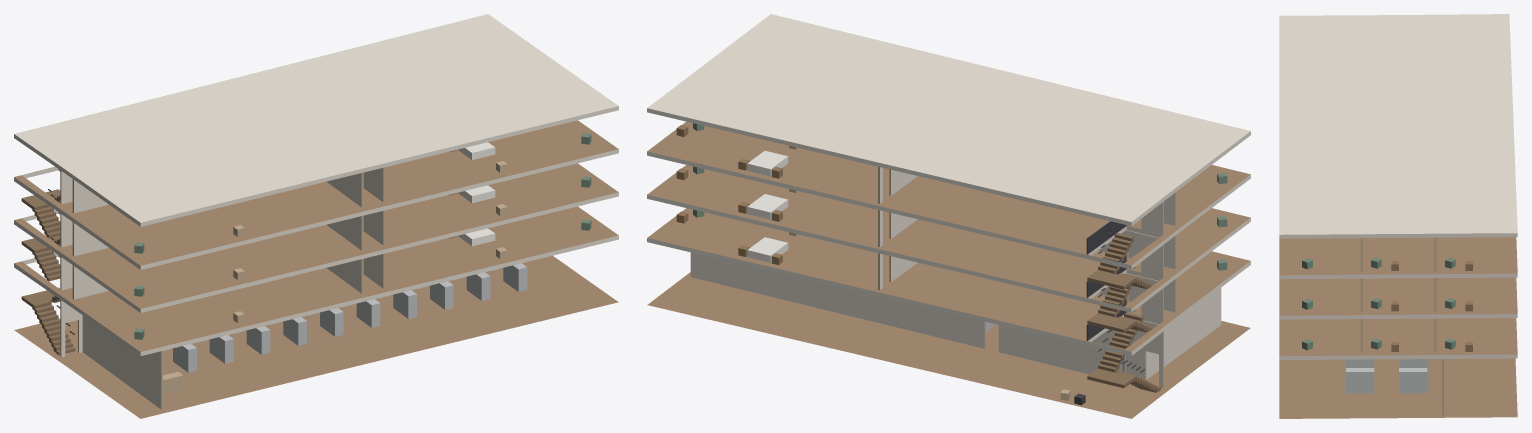
Rendered from interior.glb.
3 renders of one model, left to right at view 1: azimuth 30°, elevation 25°; view 2: azimuth 150°, elevation 25°; view 3: azimuth 270°, elevation 25°, orthographic. The views are drawn at different scales.
Visible parts, largest first — view 1: slabs, partitions, coarse-s0, stair, coarse-s1, coarse-s2, coarse-s3; view 2: slabs, partitions, stair, coarse-s1, coarse-s2, coarse-s3; view 3: slabs, coarse-s0, partitions, coarse-s2, coarse-s1, coarse-s3.
Part boxes in pixels (<box>): slabs: <box>14,14,618,418</box>; partitions: <box>60,167,384,409</box>; coarse-s0: <box>163,263,527,394</box>; stair: <box>21,189,75,355</box>; coarse-s1: <box>134,219,591,339</box>; coarse-s2: <box>134,176,591,296</box>; coarse-s3: <box>134,133,591,253</box>; slabs: <box>647,14,1250,418</box>; partitions: <box>690,166,1221,388</box>; stair: <box>1086,221,1160,392</box>; coarse-s1: <box>676,209,1227,270</box>; coarse-s2: <box>676,166,1227,227</box>; coarse-s3: <box>676,123,1227,183</box>; slabs: <box>1279,14,1517,418</box>; coarse-s0: <box>1346,359,1427,393</box>; partitions: <box>1360,237,1443,415</box>; coarse-s2: <box>1302,298,1472,311</box>; coarse-s1: <box>1302,338,1472,351</box>; coarse-s3: <box>1302,257,1472,270</box>.
Size of the model in its own units: 31.53 by 12.28 by 14.39.
